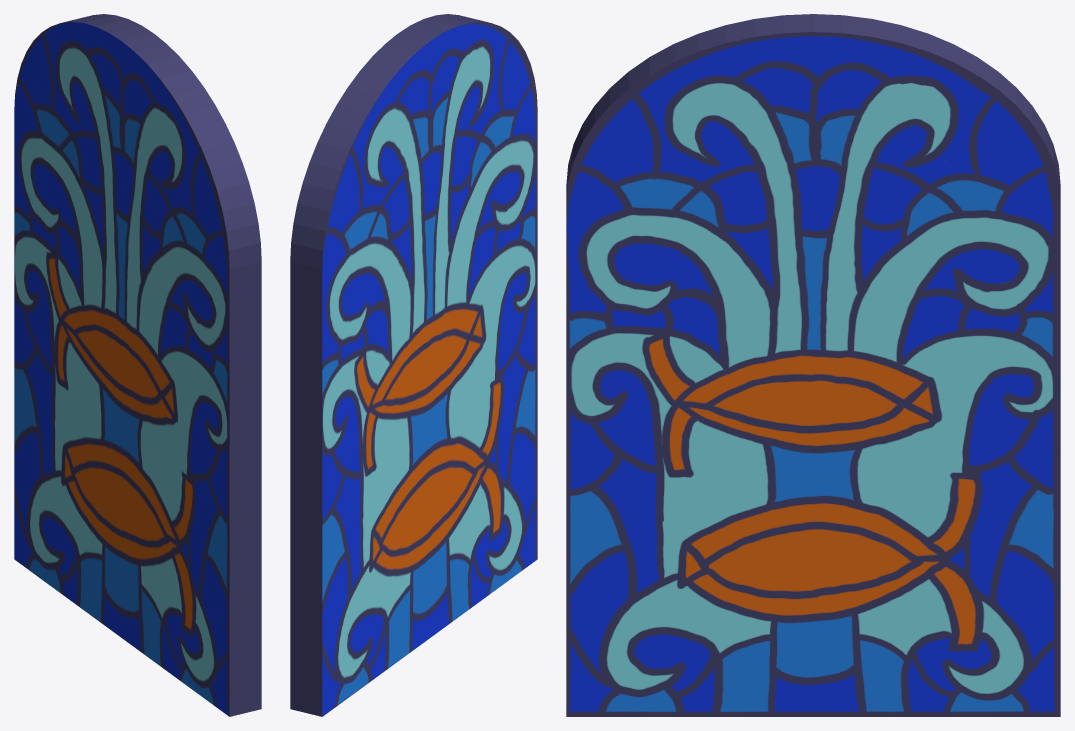
The model's file is flatWindow.obj.
3 renders of one model, left to right at view 1: azimuth 30°, elevation 25°; view 2: azimuth 150°, elevation 25°; view 3: azimuth 270°, elevation 25°, orthographic. The views are drawn at different scales.
Visible parts, largest first — view 1: Grid.001; view 2: Grid.001; view 3: Grid.001.
Boxes of the visible parts, left/top/right/bottom form: Grid.001: left=14, top=14, right=261, bottom=716; Grid.001: left=290, top=14, right=537, bottom=716; Grid.001: left=566, top=14, right=1060, bottom=716.
Bounding box in the file's own units: 0.3459 × 6.14 × 4.01.
1 material, 1 textured.
